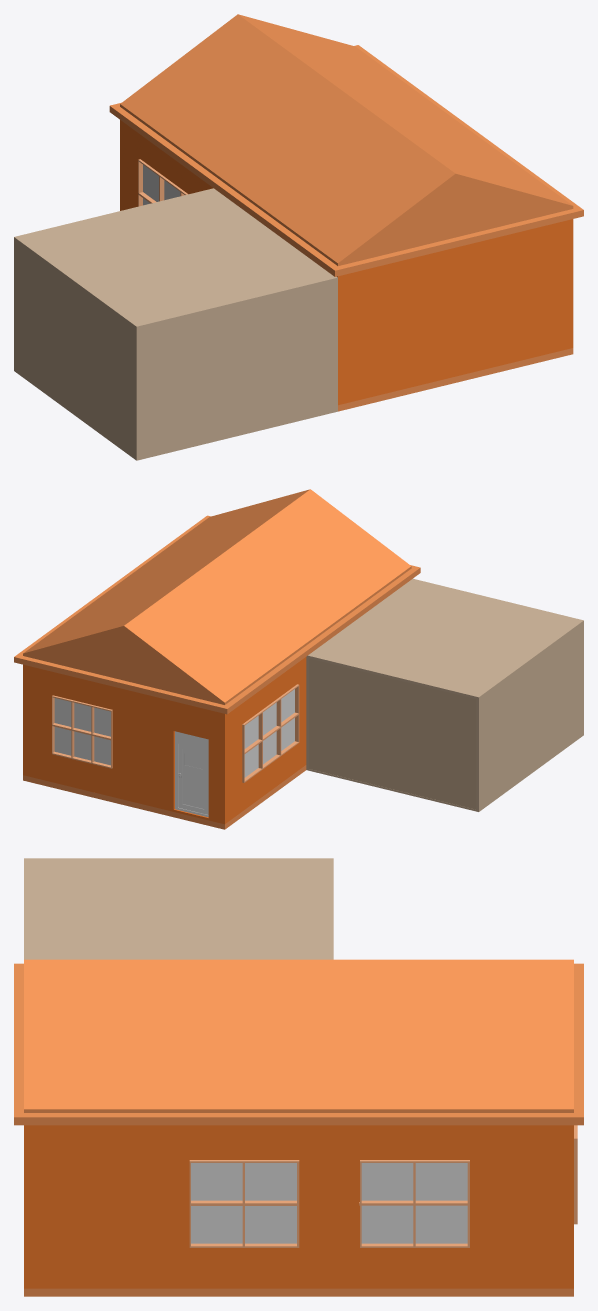
File: House_12.fbx
The picture shows the model from 3 angles, top to bottom: view 1: azimuth 30°, elevation 25°; view 2: azimuth 150°, elevation 25°; view 3: azimuth 270°, elevation 25°; orthographic projection. The views are drawn at different scales.
Visible parts, largest first — view 1: House_12_Body, House_12_Garage, House_12_Window; view 2: House_12_Body, House_12_Garage, House_12__Garage_Door, House_12_Window.003, Hoouse_12_Door.003, House_12_Window; view 3: House_12_Body, House_12_Garage, House_12_Window.002, House_12_Window.001.
Part boxes in pixels (x1,y1,x2,y2): House_12_Body: (109, 14, 583, 411); House_12_Garage: (14, 188, 337, 460); House_12_Window: (143, 165, 180, 205); House_12_Body: (14, 489, 420, 829); House_12_Garage: (306, 578, 583, 811); House_12__Garage_Door: (309, 658, 476, 809); House_12_Window.003: (54, 698, 110, 765); Hoouse_12_Door.003: (175, 731, 208, 817); House_12_Window: (244, 689, 294, 777); House_12_Body: (14, 959, 583, 1296); House_12_Garage: (24, 858, 333, 959); House_12_Window.002: (359, 1163, 467, 1246); House_12_Window.001: (191, 1163, 296, 1246).
Bounding box in the file's own units: 1102 × 497 × 971.
